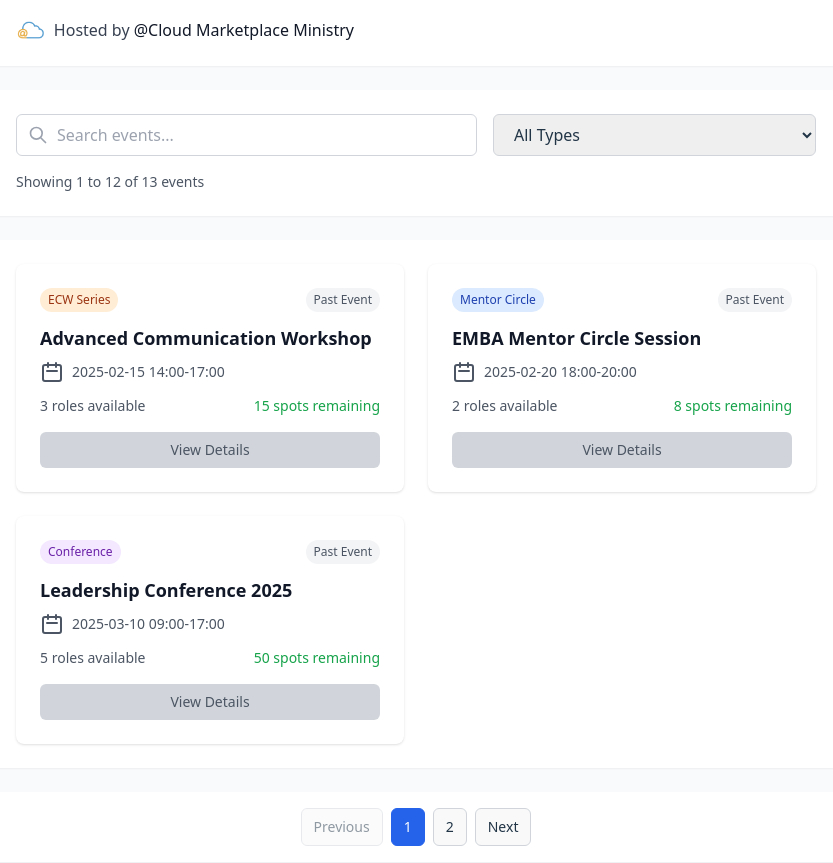
PublicEventsList › Results Count Display › should calculate correct range for last page
(page scrolled)
Check: the heading "Advanced Communication Workshop" is shown, box [40, 324, 380, 352]
Navigate to page 2
Click the button "2" at [450, 827], box [433, 808, 467, 846]
(page scrolled)
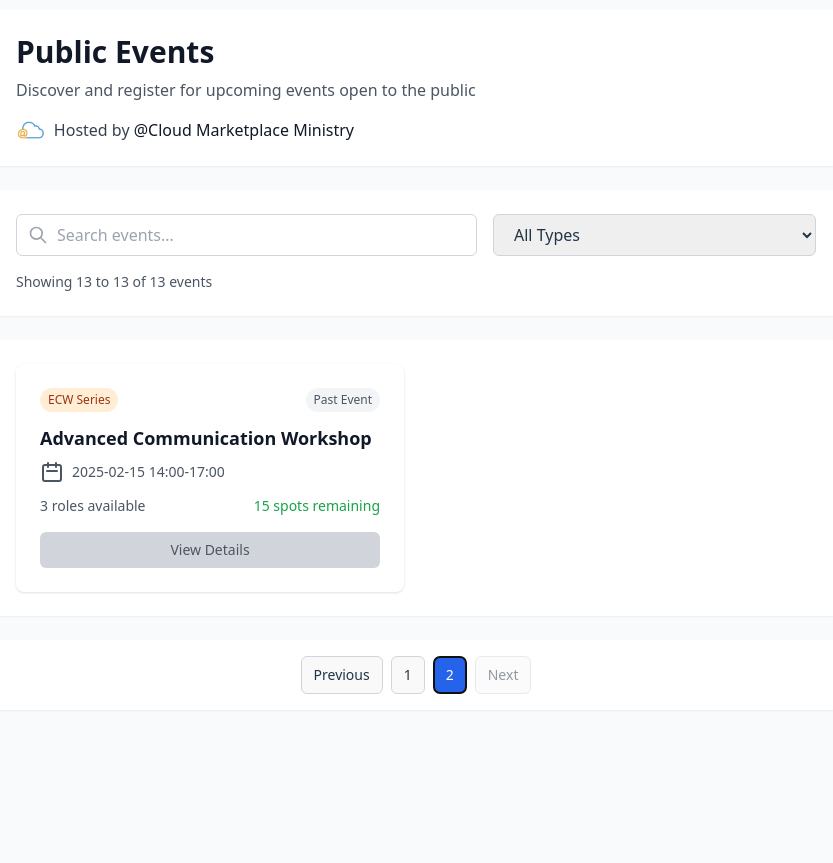
Check: the text "Showing 13 to 13 of 13 events" is shown, box [16, 272, 212, 291]
